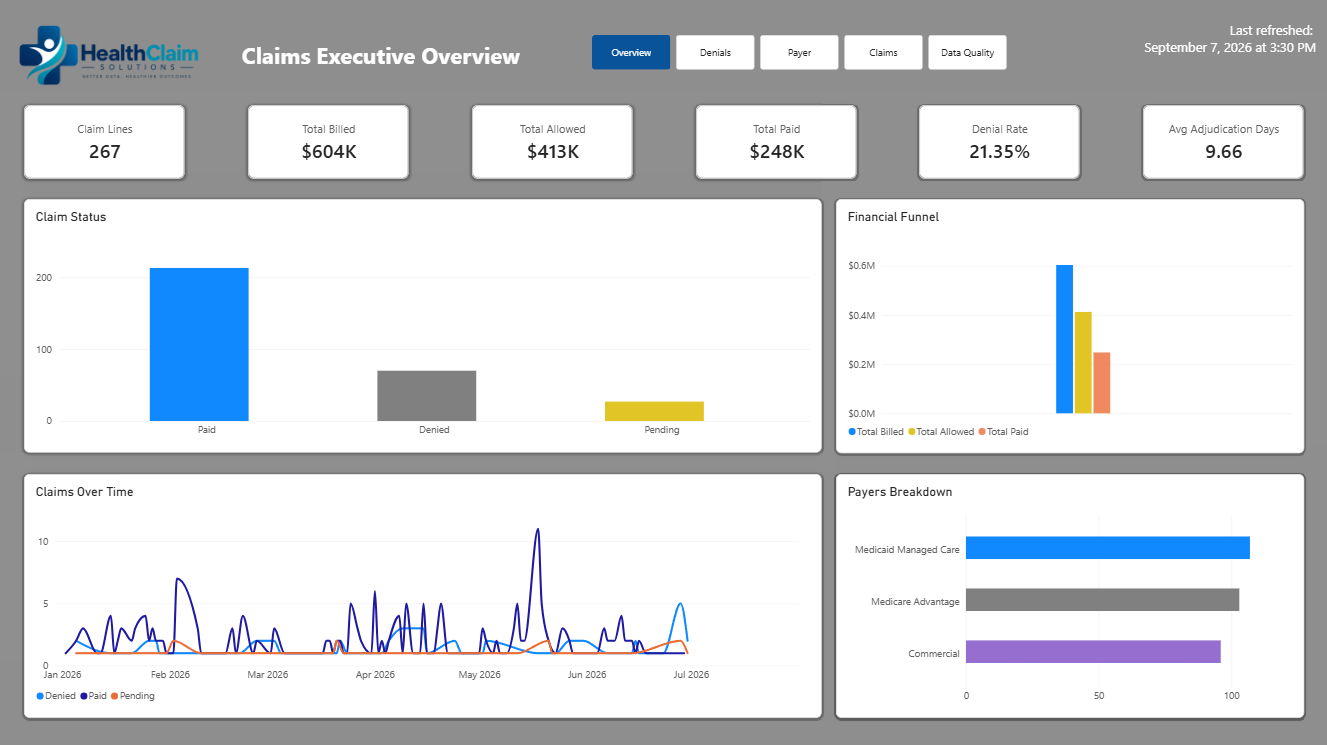

This screenshot's page, from the dashboard's own definition file:
{"tool":"powerbi","page":{"name":"Overview","canvas":[1920,1080],"ordinal":0},"visuals":[{"type":"cardVisual","title":"Governed Claim %","fields":{"Data":["reporting vw_ClaimsAnalytics.Denial Rate"]},"box":[1323.3,152,231,106],"z":0},{"type":"cardVisual","title":"Governed Claim %","fields":{"Data":["reporting vw_ClaimsAnalytics.Claim Lines"]},"box":[35.1,152,231,106],"z":1000},{"type":"cardVisual","title":"Governed Claim %","fields":{"Data":["reporting vw_ClaimsAnalytics.Avg Adjudication Days"]},"box":[1645.2,152,231,106],"z":2000},{"type":"columnChart","title":"Claim Status","fields":{"Category":["reporting vw_ClaimsAnalytics.Claim_Status"],"Y":["CountNonNull(reporting vw_ClaimsAnalytics.Claim_Status)"]},"box":[35.1,288.5,1148.1,364.5],"z":3000},{"type":"clusteredColumnChart","title":"Financial Funnel","fields":{"Y":["reporting vw_ClaimsAnalytics.Total Billed","reporting vw_ClaimsAnalytics.Total Allowed","reporting vw_ClaimsAnalytics.Total Paid"]},"box":[1202.7,288.5,674.4,366.5],"z":4000},{"type":"lineChart","title":"Claims Over Time","fields":{"Category":["reporting vw_ClaimsAnalytics.Service_Date"],"Series":["reporting vw_ClaimsAnalytics.Claim_Status"],"Y":["CountNonNull(reporting vw_ClaimsAnalytics.Claim_ID)"]},"box":[35.1,684.2,1148.1,350.9],"z":5000},{"type":"barChart","title":"Payers Breakdown","fields":{"Category":["reporting vw_ClaimsAnalytics.Payer_Type"],"Y":["reporting vw_ClaimsAnalytics.Claim Line Records"]},"box":[1202.7,684.2,674.4,350.9],"z":6000},{"type":"cardVisual","title":"Governed Claim %","fields":{"Data":["reporting vw_ClaimsAnalytics.Total Billed"]},"box":[357,152,231.2,106],"z":7000},{"type":"image","box":[0,0,309.9,177.4],"z":8000},{"type":"pageNavigator","box":[852.3,51.9,600,50],"z":9000},{"type":"textbox","box":[1569.1,31.2,325.5,64.3],"z":10000},{"type":"cardVisual","title":"Governed Claim %","fields":{"Data":["reporting vw_ClaimsAnalytics.Total Allowed"]},"box":[679.1,152,231.2,106],"z":11000},{"type":"cardVisual","title":"Governed Claim %","fields":{"Data":["reporting vw_ClaimsAnalytics.Total Paid"]},"box":[1001.2,152,231.2,106],"z":12000},{"type":"textbox","box":[337.2,58.5,423,60.4],"z":13000}]}

Visuals, with their boxes in screenshot pixels (x1, y1, x2, y2), scaled from the page's 1920x1080 canvas onto the 1327x745 screenshot:
"Governed Claim %" cardVisual: region(915, 105, 1074, 178)
"Governed Claim %" cardVisual: region(24, 105, 184, 178)
"Governed Claim %" cardVisual: region(1137, 105, 1297, 178)
"Claim Status" columnChart: region(24, 199, 818, 450)
"Financial Funnel" clusteredColumnChart: region(831, 199, 1297, 452)
"Claims Over Time" lineChart: region(24, 472, 818, 714)
"Payers Breakdown" barChart: region(831, 472, 1297, 714)
"Governed Claim %" cardVisual: region(247, 105, 407, 178)
image: region(0, 0, 214, 122)
pageNavigator: region(589, 36, 1004, 70)
textbox: region(1084, 22, 1309, 66)
"Governed Claim %" cardVisual: region(469, 105, 629, 178)
"Governed Claim %" cardVisual: region(692, 105, 852, 178)
textbox: region(233, 40, 525, 82)
